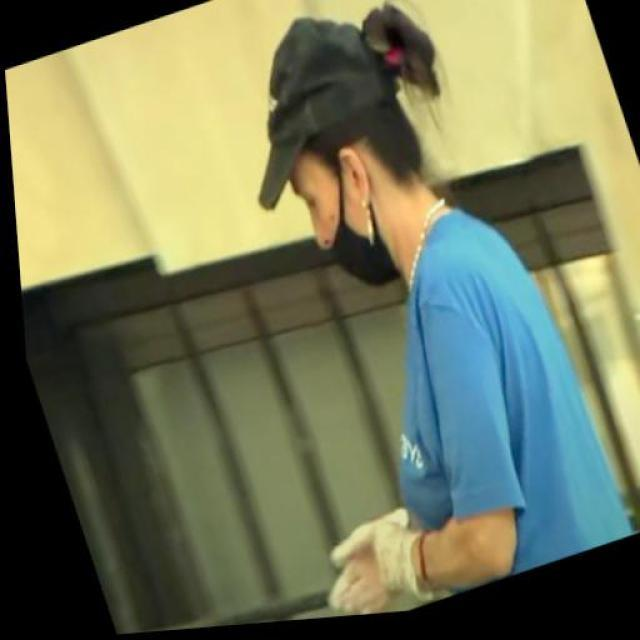hairnet: (293, 163, 397, 308)
